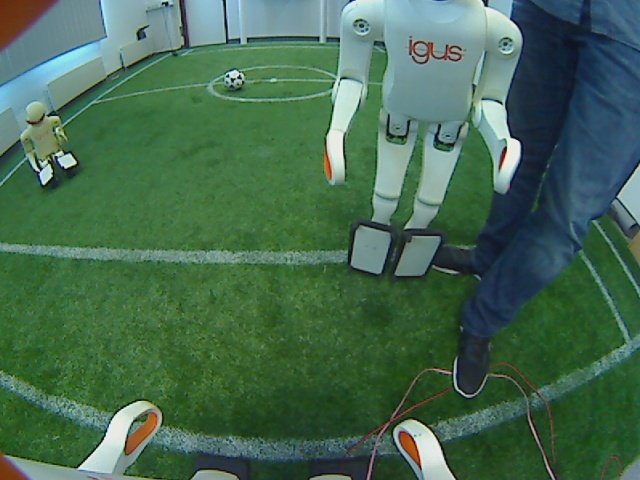ball: (220, 66, 247, 94)
robot: (325, 1, 521, 281), (19, 99, 81, 192)
